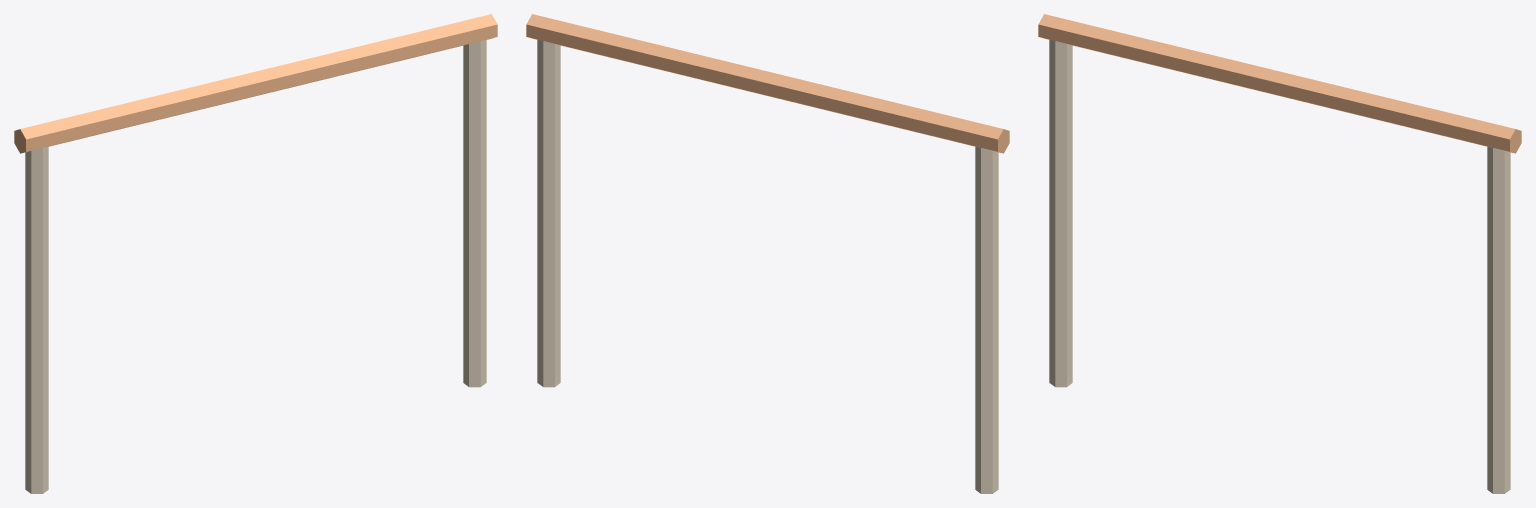
3 views of the same model, side by side, from view 1: azimuth 30°, elevation 25°; view 2: azimuth 150°, elevation 25°; view 3: azimuth 330°, elevation 25° (orthographic).
Visible parts, largest first — view 1: Bar, Post.001, Post; view 2: Bar, Post.001, Post; view 3: Bar, Post, Post.001.
Part boxes in pixels (x1,y1,x2,y2): Bar: (14, 14, 497, 153); Post.001: (463, 39, 486, 387); Post: (25, 146, 48, 493); Bar: (526, 14, 1009, 153); Post.001: (537, 39, 560, 387); Post: (975, 146, 998, 493); Bar: (1038, 14, 1521, 153); Post: (1049, 39, 1072, 387); Post.001: (1487, 146, 1510, 493).
Bounding box in the file's own units: 140 × 104 × 6.06.
